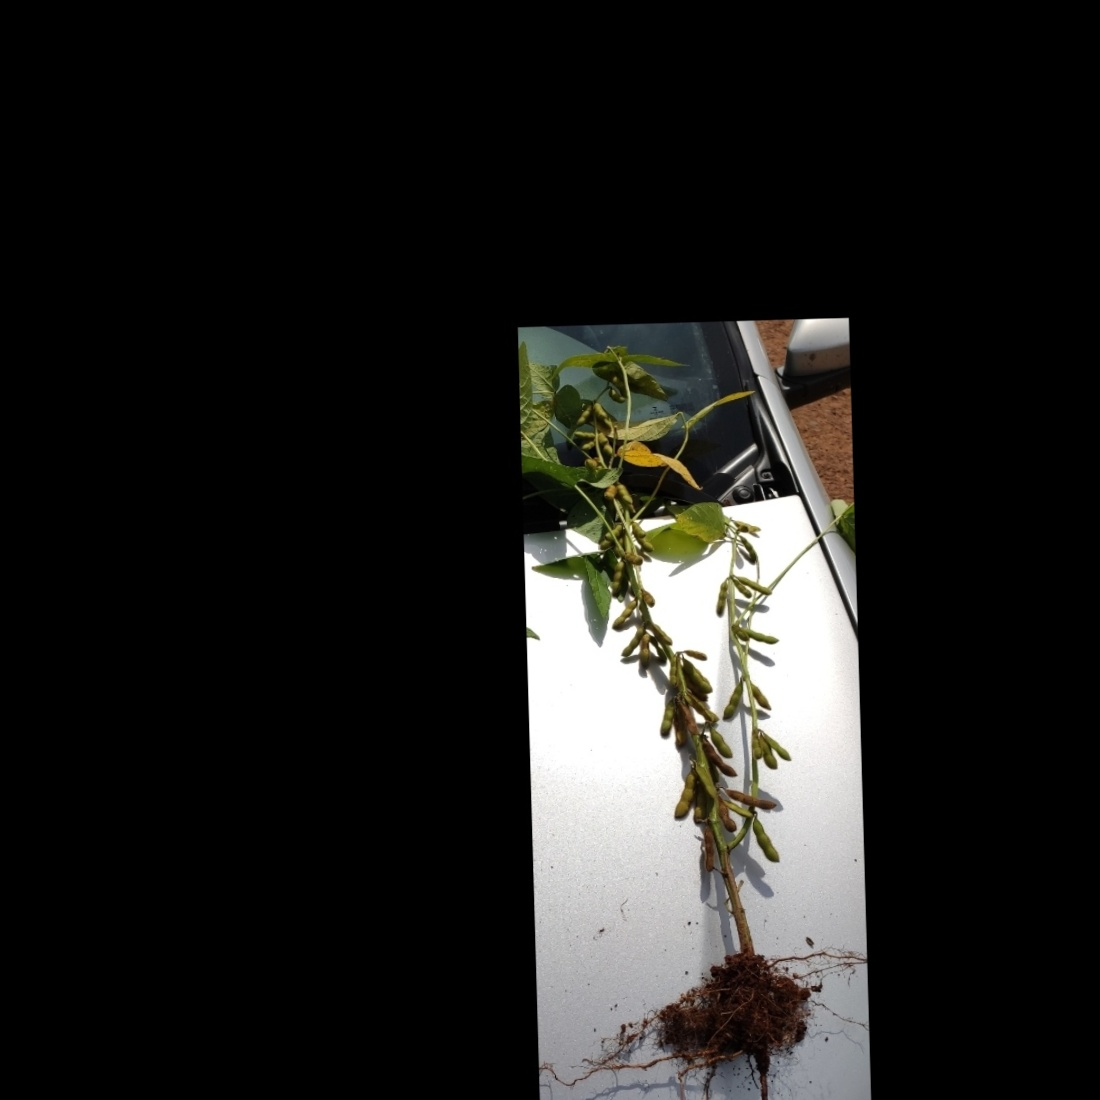pod: (720, 783, 785, 815), (751, 810, 782, 867), (671, 767, 698, 827), (757, 726, 795, 767), (703, 718, 739, 761), (720, 676, 750, 724), (654, 695, 678, 747), (607, 593, 638, 633), (696, 826, 719, 876), (731, 572, 775, 598), (711, 799, 757, 823), (618, 628, 646, 661), (742, 626, 782, 648), (713, 574, 731, 621), (636, 629, 652, 670), (617, 549, 652, 568), (612, 477, 635, 505)
soy: (522, 329, 872, 1091)
